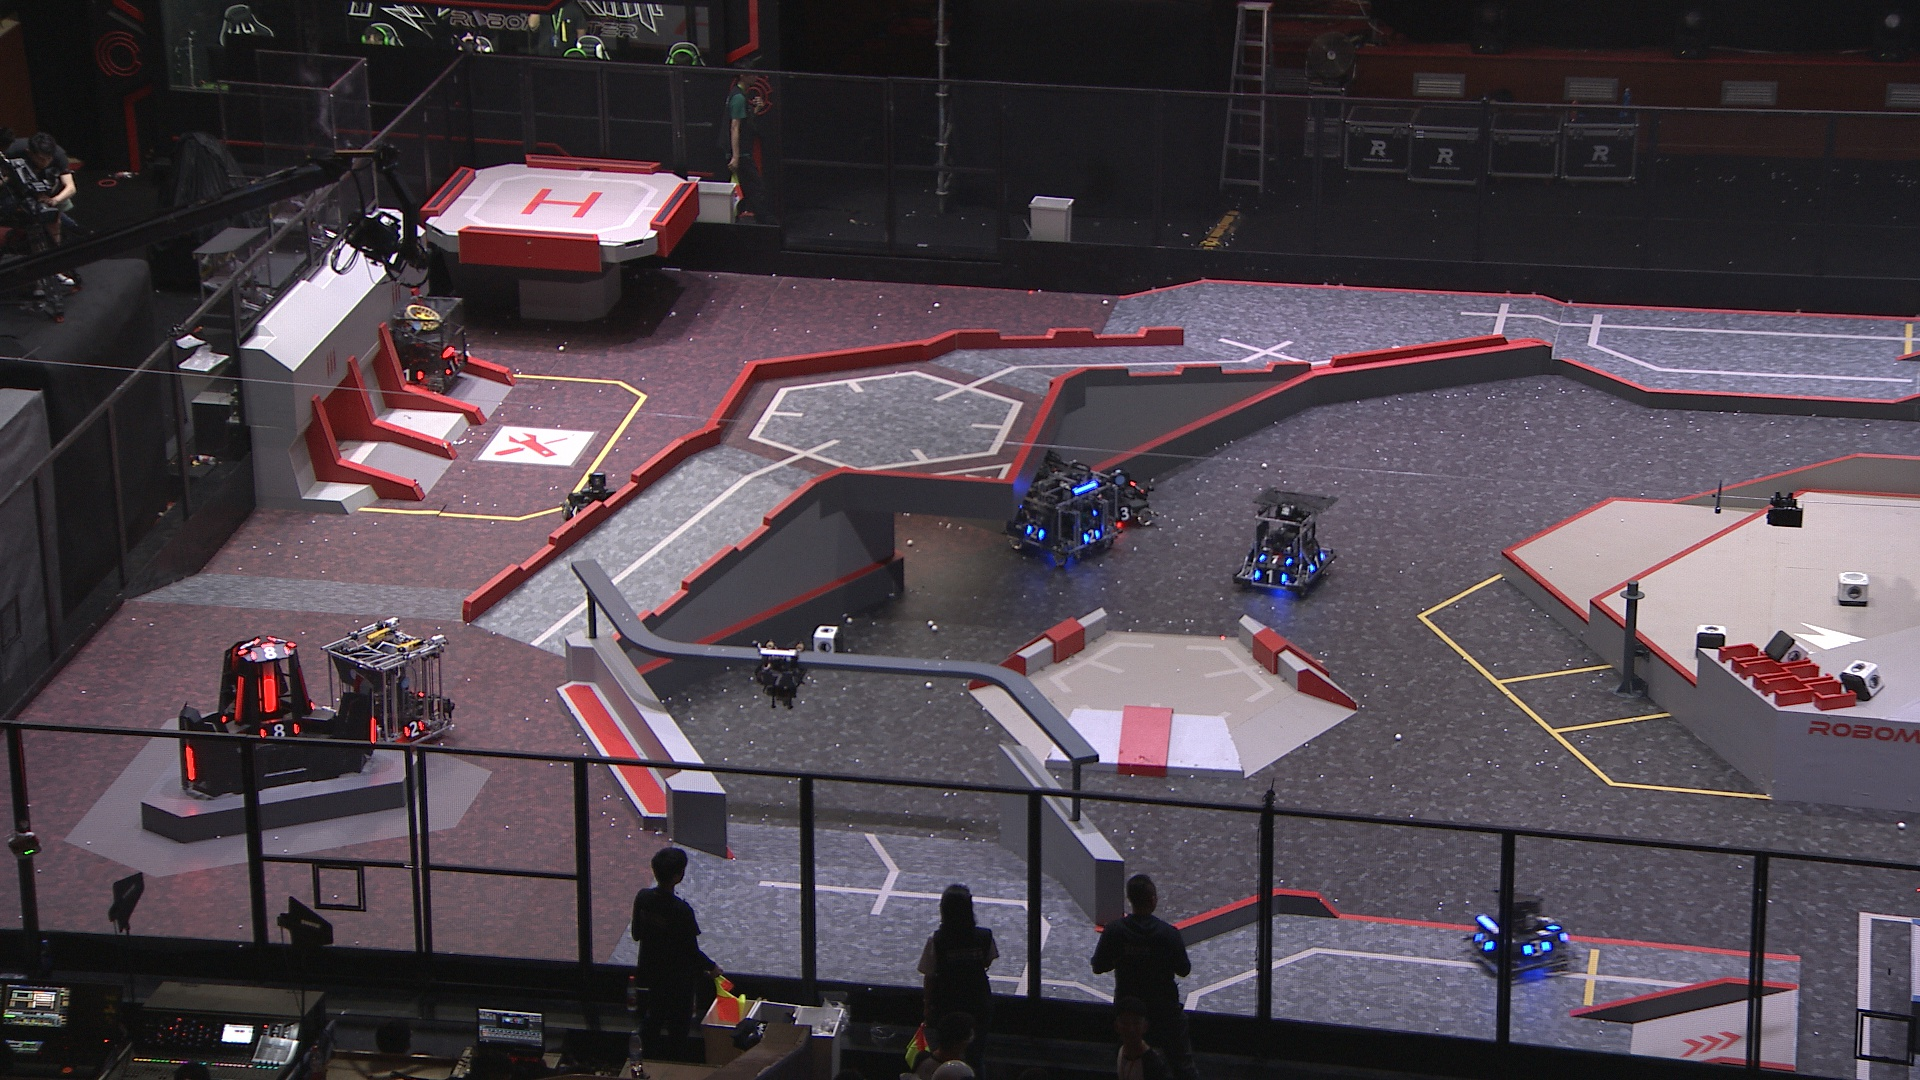armor: (757, 670, 798, 688), (1255, 567, 1287, 589), (231, 674, 245, 723), (258, 678, 278, 713), (248, 645, 291, 659), (182, 742, 196, 785), (262, 723, 301, 738), (401, 717, 425, 741), (1307, 550, 1325, 578), (1259, 551, 1292, 566), (1524, 938, 1548, 957), (1476, 928, 1495, 951), (1536, 910, 1556, 931), (1081, 527, 1102, 546), (237, 638, 258, 655), (367, 717, 378, 746), (1116, 505, 1135, 522), (1025, 524, 1044, 541), (400, 367, 419, 384), (447, 356, 462, 378)
base: (174, 633, 382, 799)
car: (324, 612, 458, 746), (992, 448, 1116, 570), (1229, 485, 1337, 599), (1466, 887, 1576, 982), (381, 291, 476, 398), (1087, 463, 1159, 534), (558, 469, 632, 531)
watcher: (752, 641, 806, 709)
